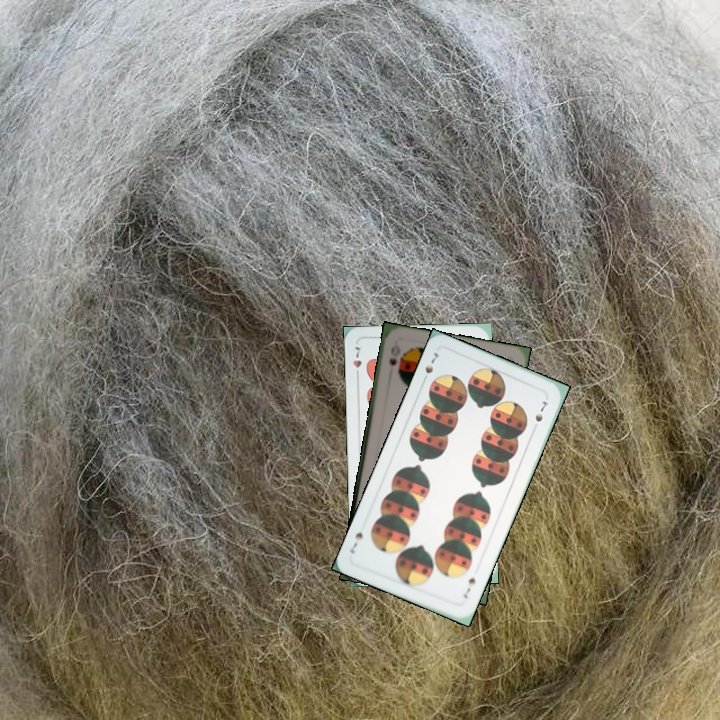H7: (349, 342, 364, 382)
S7: (418, 348, 441, 385), (460, 573, 478, 601)
SO: (385, 341, 403, 369)
